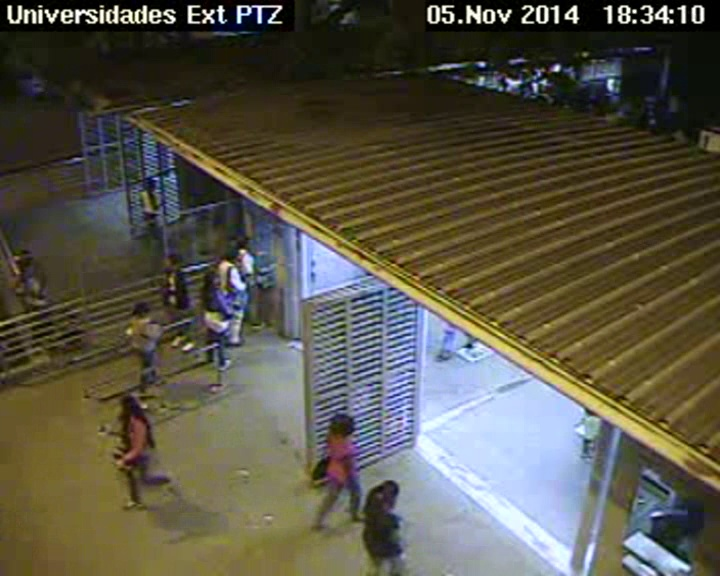person: (327, 411, 353, 439), (380, 480, 399, 501), (119, 394, 138, 414), (15, 249, 33, 270), (165, 253, 184, 271), (201, 269, 220, 287), (235, 234, 252, 253), (133, 301, 150, 319), (142, 176, 160, 193), (221, 245, 237, 263)
